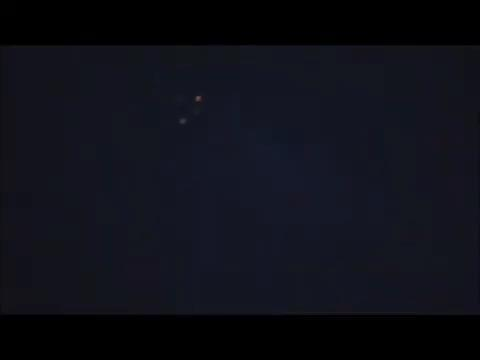Plane: (157, 85, 226, 134)
